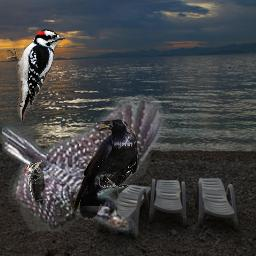Crow: (74, 119, 139, 220)
Woodpecker: (2, 94, 170, 235), (4, 29, 65, 121), (24, 160, 45, 214)
